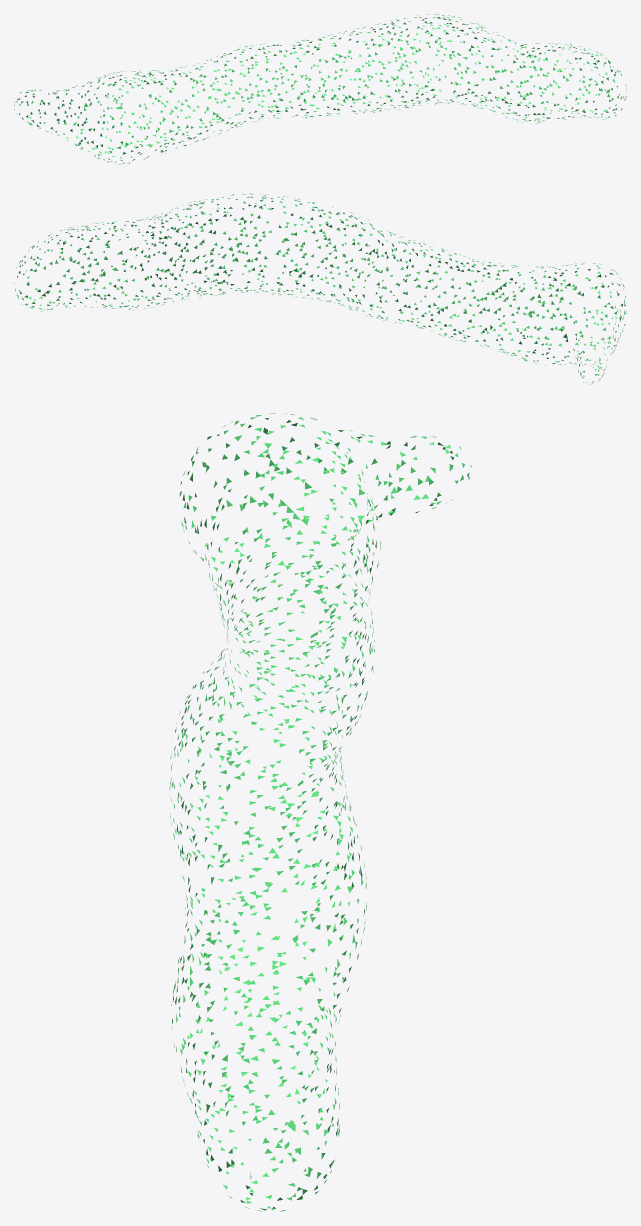
Rendered from morph_020.glb.
3 views of the same model, one above another, from view 1: azimuth 30°, elevation 25°; view 2: azimuth 150°, elevation 25°; view 3: azimuth 270°, elevation 25° (orthographic). The views are drawn at different scales.
Size of the model in its own units: 125 by 33.09 by 28.99.
